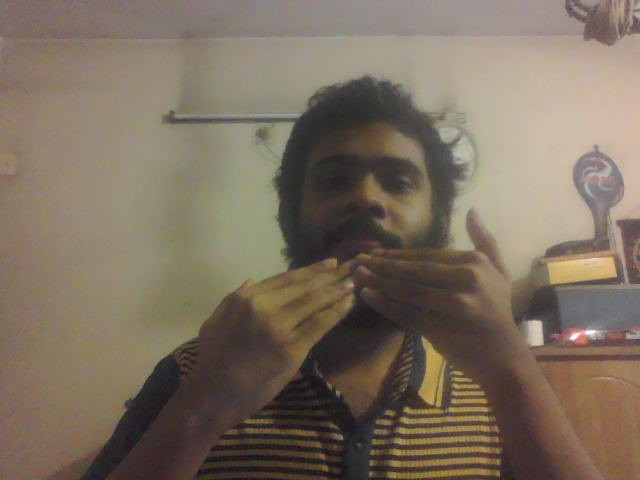Thank You: (160, 208, 523, 388)
